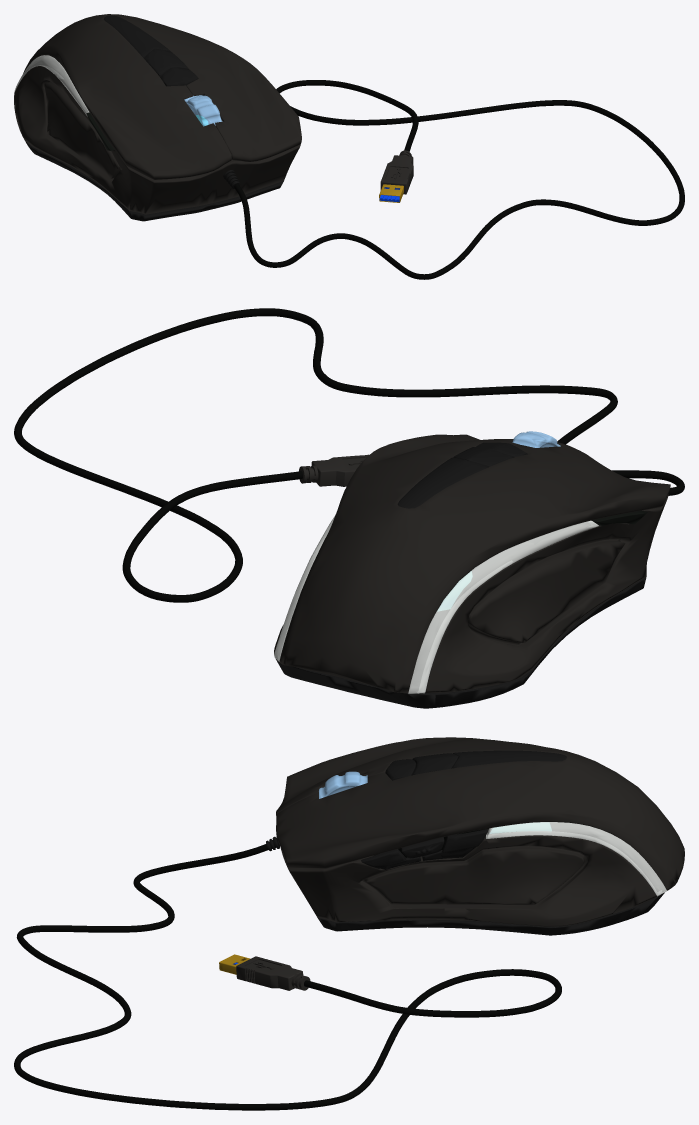
The model's file is gaming_mouse.glb.
3 renders of one model, top to bottom at view 1: azimuth 30°, elevation 25°; view 2: azimuth 150°, elevation 25°; view 3: azimuth 270°, elevation 25°, orthographic. The views are drawn at different scales.
Visible parts, largest first — view 1: Mouse_Top_RubberTop.001_0, Mouse_SideLeftButtons.001_Body_Inside_0, Mouse_Light_Left_GlassPlastic_0, Mouse_Wheel_WheelRubber_0; view 2: Mouse_Top_RubberTop.001_0, Mouse_SideLeftButtons.001_Body_Inside_0, Mouse_Light_Left_GlassPlastic_0; view 3: Mouse_Top_RubberTop.001_0, Mouse_SideLeftButtons.001_Body_Inside_0, Mouse_Light_Left_GlassPlastic_0, Mouse_Wheel_WheelRubber_0.
Boxes of the visible parts, <box> form: Mouse_Top_RubberTop.001_0: <box>23,14,684,279</box>; Mouse_SideLeftButtons.001_Body_Inside_0: <box>14,15,413,221</box>; Mouse_Light_Left_GlassPlastic_0: <box>14,55,89,116</box>; Mouse_Wheel_WheelRubber_0: <box>184,95,222,126</box>; Mouse_Top_RubberTop.001_0: <box>14,308,684,693</box>; Mouse_SideLeftButtons.001_Body_Inside_0: <box>274,442,668,708</box>; Mouse_Light_Left_GlassPlastic_0: <box>274,515,598,693</box>; Mouse_Top_RubberTop.001_0: <box>14,737,684,1110</box>; Mouse_SideLeftButtons.001_Body_Inside_0: <box>219,750,664,990</box>; Mouse_Light_Left_GlassPlastic_0: <box>486,822,666,896</box>; Mouse_Wheel_WheelRubber_0: <box>319,771,367,798</box>.
Bounding box in the file's own units: 17.42 × 4.08 × 18.09.
Materials: 6 (6 with a texture image).
